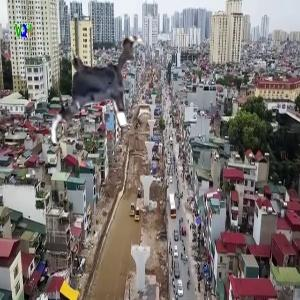drone: (30, 22, 166, 158)
